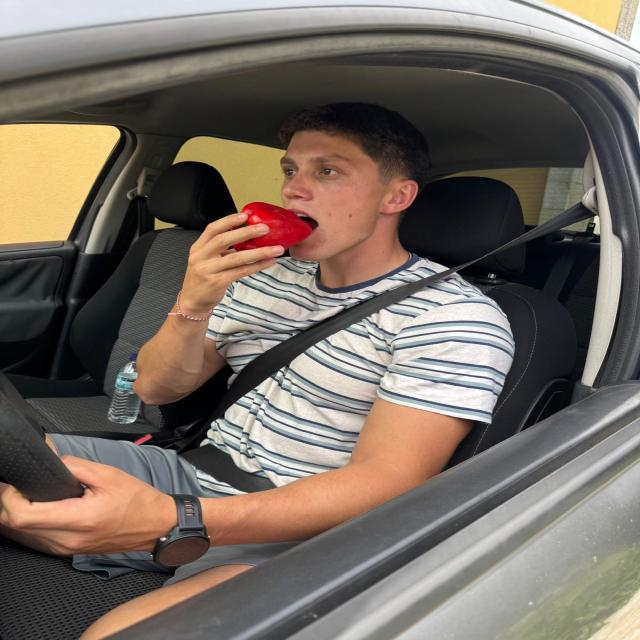Eating: (229, 200, 317, 259)
Seatbelt: (179, 180, 604, 484)
